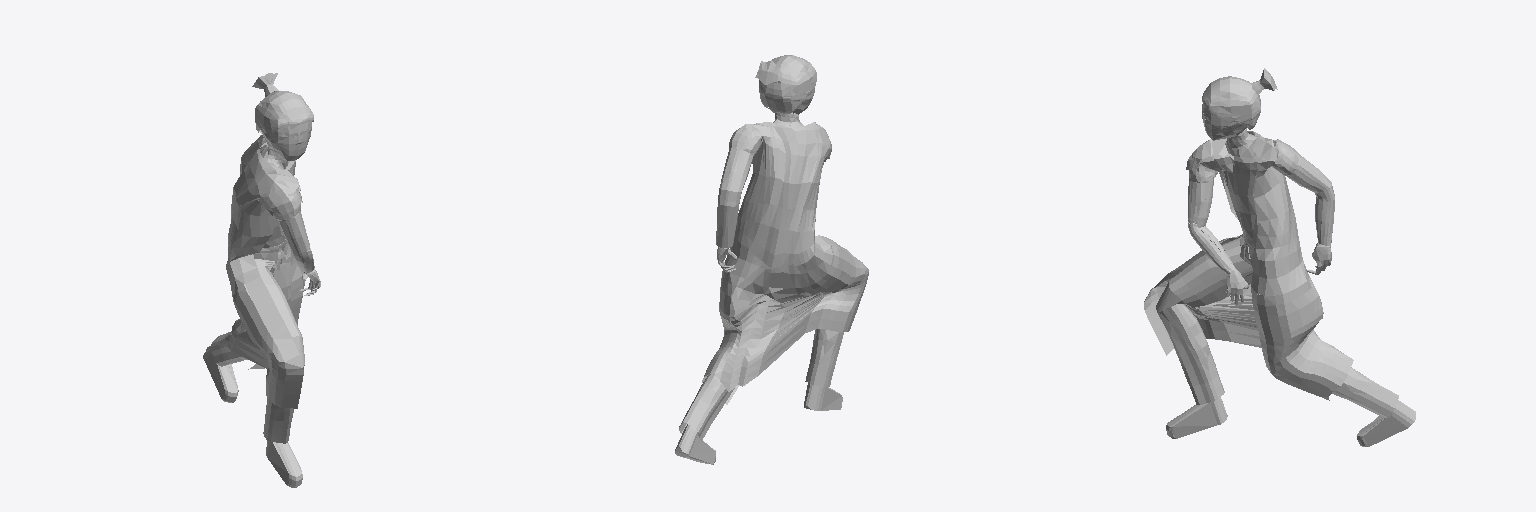
Rendered from One_Dash_000002.obj.
The picture shows the model from 3 angles: view 1: azimuth 30°, elevation 25°; view 2: azimuth 150°, elevation 25°; view 3: azimuth 270°, elevation 25°; orthographic projection.
Parts seen in each view (by area): view 1: Hair_Cube.004; view 2: Hair_Cube.004; view 3: Hair_Cube.004.
Part boxes in pixels (bbox=[...]): Hair_Cube.004: bbox=[203, 73, 320, 487]; Hair_Cube.004: bbox=[675, 55, 868, 464]; Hair_Cube.004: bbox=[1144, 68, 1415, 446].
Size of the model in its own units: 0.8926 by 3.58 by 2.35.